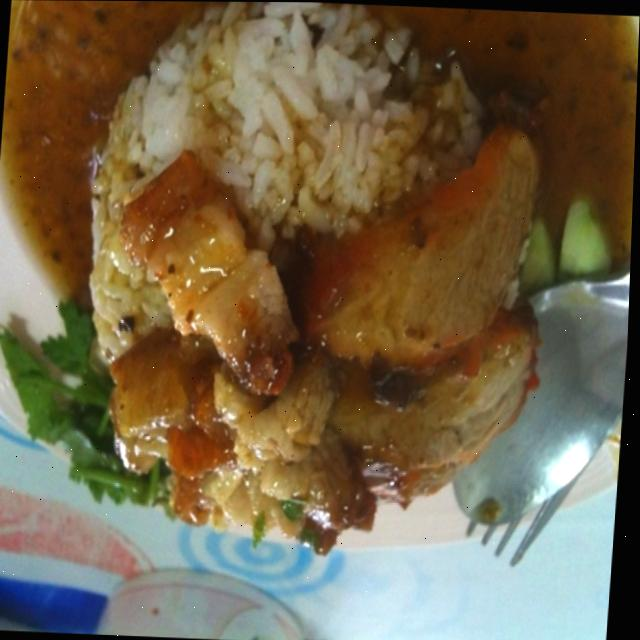猪肉菜式: (43, 0, 575, 579)
